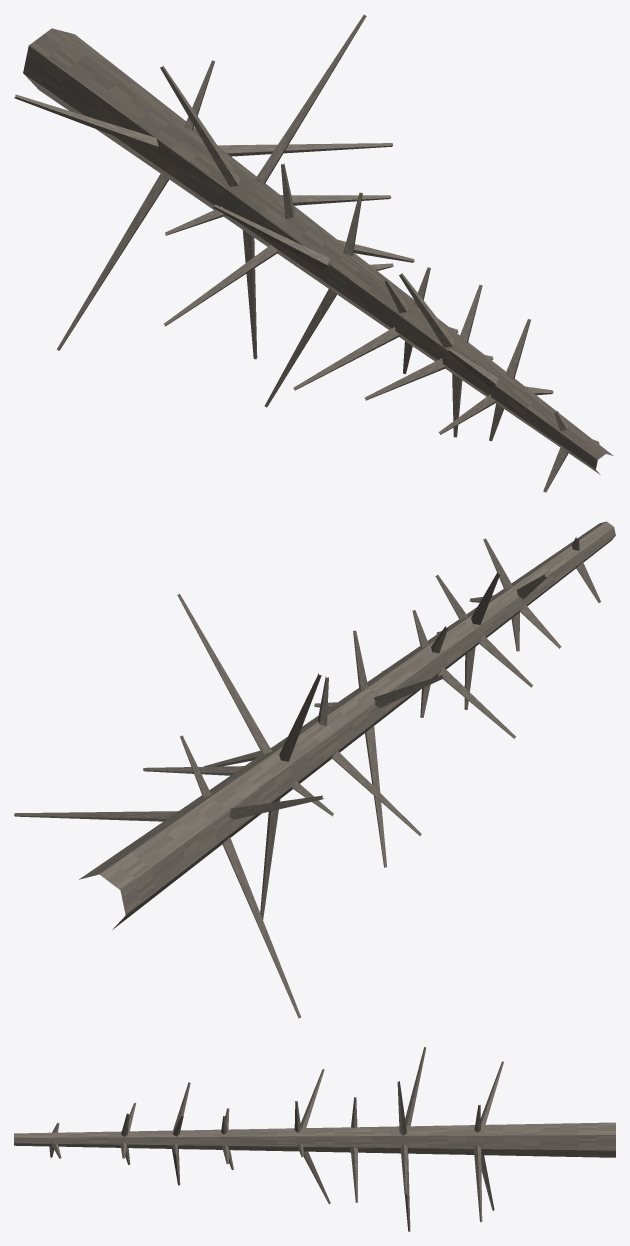
Rendered from pine_tree_dead.glb.
3 renders of one model, top to bottom at view 1: azimuth 30°, elevation 25°; view 2: azimuth 150°, elevation 25°; view 3: azimuth 270°, elevation 25°, orthographic. The views are drawn at different scales.
Visible parts, largest first — view 1: bark; view 2: bark; view 3: bark.
Part boxes in pixels (left/top/right/bottom): bark: left=14, top=14, right=613, bottom=492; bark: left=14, top=521, right=615, bottom=1018; bark: left=14, top=1047, right=615, bottom=1231.
Bounding box in the file's own units: 2.91 × 2.7 × 7.8.
1 material, 1 textured.
